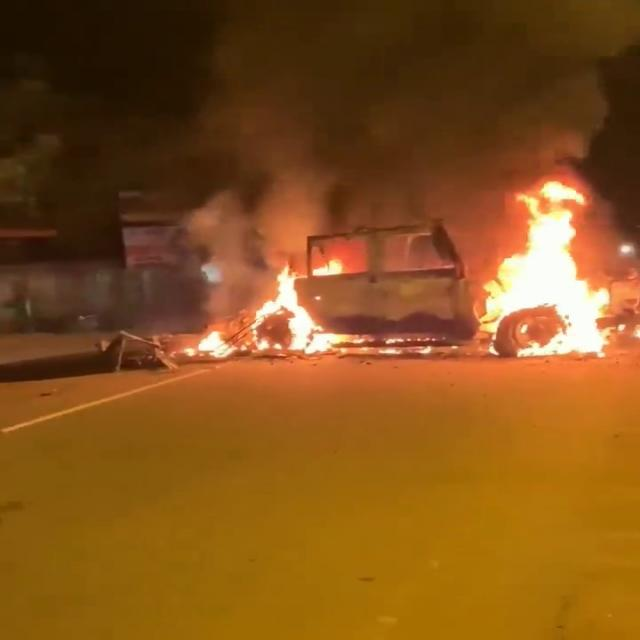Fire: (480, 202, 629, 361), (211, 272, 321, 349), (304, 333, 459, 359), (528, 174, 590, 208), (187, 329, 238, 361), (308, 262, 370, 281)
Smoke: (183, 191, 306, 323)
